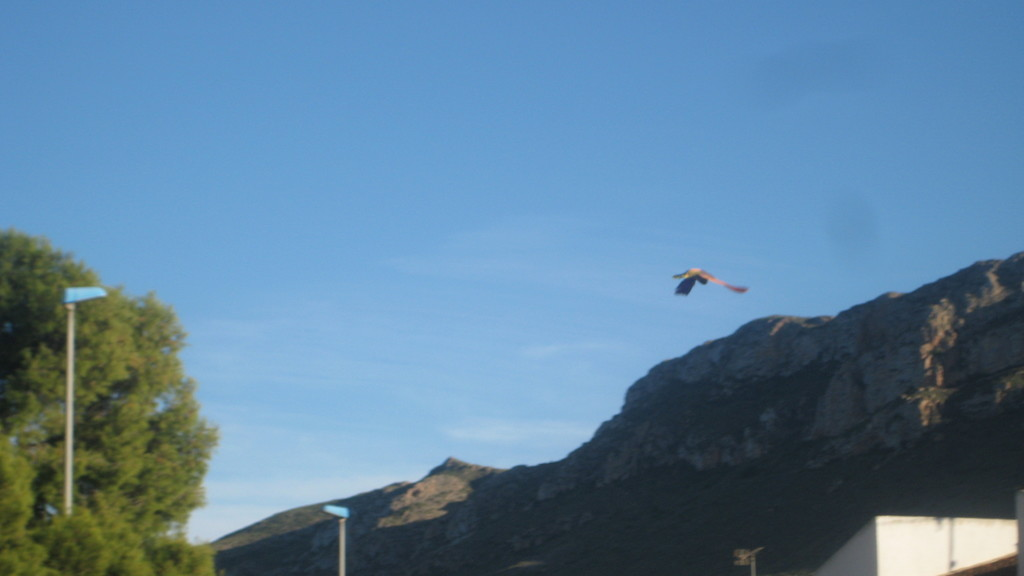Tree: (0, 247, 229, 547)
